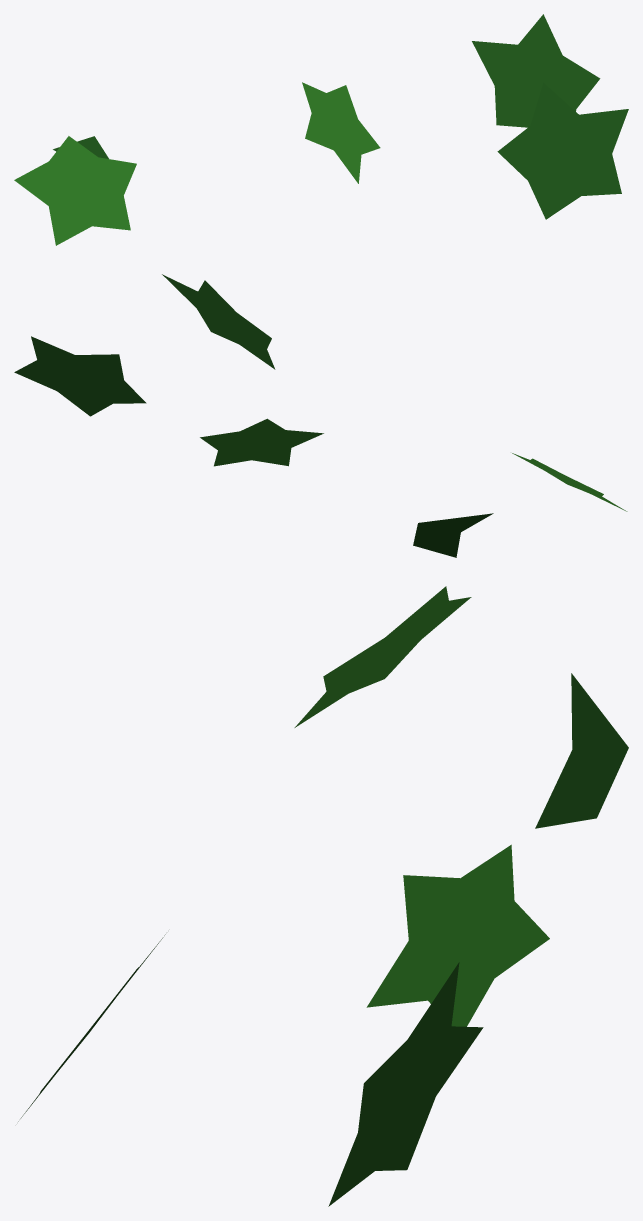
3 renders of one model, top to bottom at view 1: azimuth 30°, elevation 25°; view 2: azimuth 150°, elevation 25°; view 3: azimuth 270°, elevation 25°, orthographic. The views are drawn at different scales.
Parts seen in each view (by area): view 1: r7c5_l10; view 2: r7c5_l10; view 3: r7c5_l10.
Part boxes in pixels (<box>): r7c5_l10: <box>14,14,628,245</box>; r7c5_l10: <box>14,274,627,557</box>; r7c5_l10: <box>18,586,628,1206</box>.
Bounding box in the file's own units: 1.7 × 0.3297 × 0.8415.
